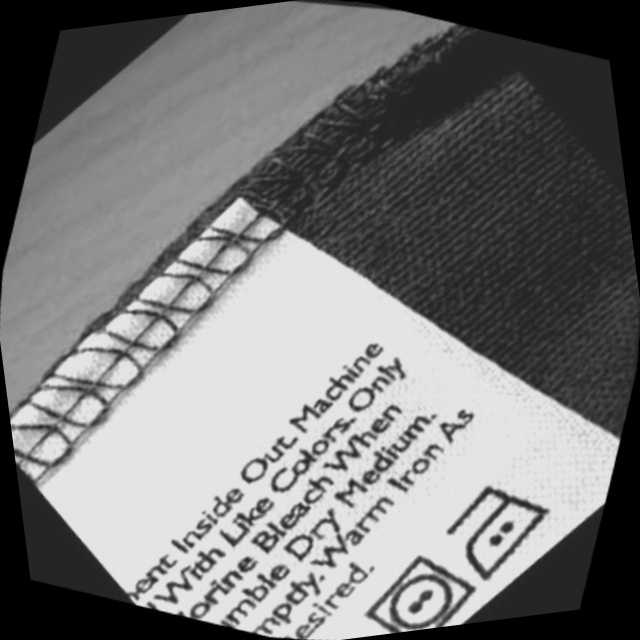iron_medium: (412, 446, 590, 618)
tumble_dry_medium: (337, 517, 507, 639)
